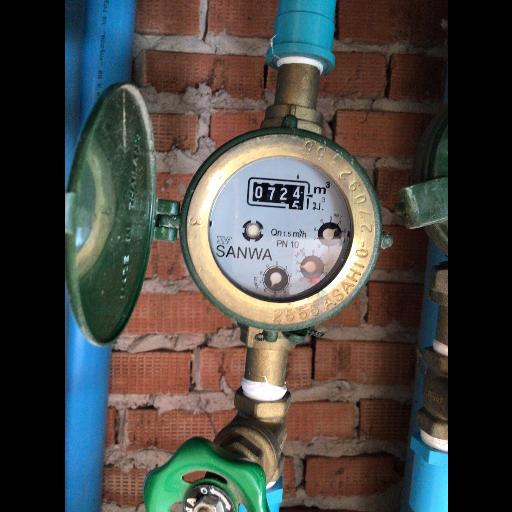0: (251, 182, 265, 202)
2: (276, 184, 291, 204)
4: (288, 185, 304, 210)
7: (263, 183, 277, 203)
border_water_meter_number: (246, 176, 311, 210)
